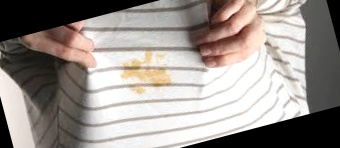mustard: (130, 64, 177, 91), (122, 49, 154, 71), (154, 50, 170, 64), (133, 83, 148, 97), (119, 69, 133, 84)
